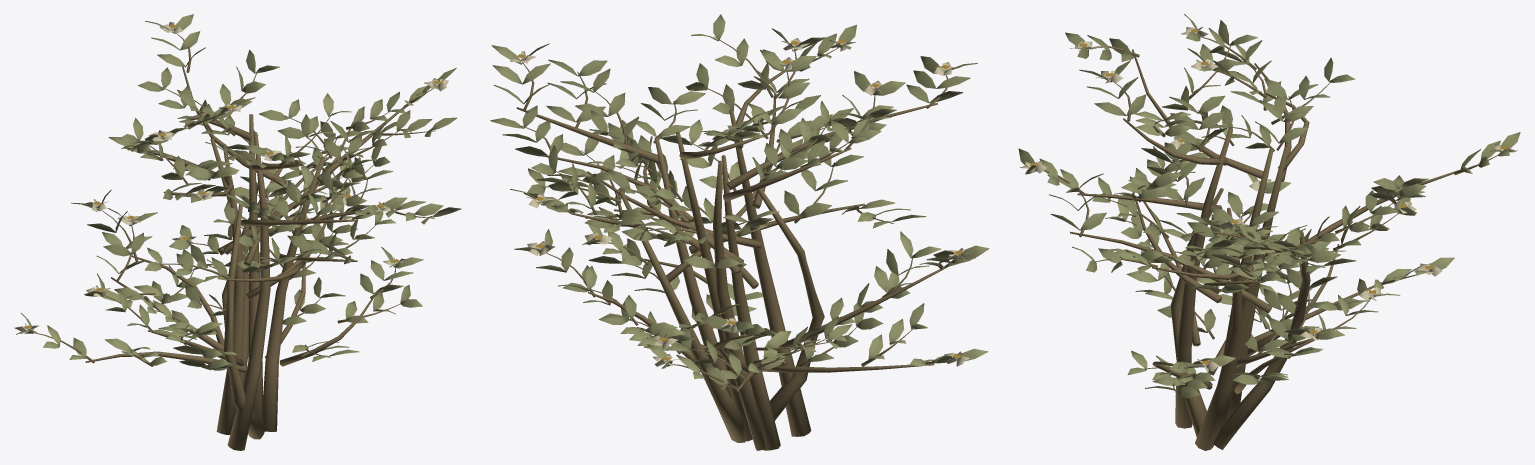
The model's file is Ciste_1_LOD0.fbx.
3 views of the same model, side by side, from view 1: azimuth 30°, elevation 25°; view 2: azimuth 150°, elevation 25°; view 3: azimuth 270°, elevation 25° (orthographic). The views are drawn at different scales.
Parts seen in each view (by area): view 1: Ciste_1_LOD0; view 2: Ciste_1_LOD0; view 3: Ciste_1_LOD0.
Part boxes in pixels (x1,y1,x2,y2): Ciste_1_LOD0: (14, 14, 461, 450); Ciste_1_LOD0: (490, 14, 989, 450); Ciste_1_LOD0: (1018, 14, 1520, 450).
Size of the model in its own units: 137 by 102 by 124.
